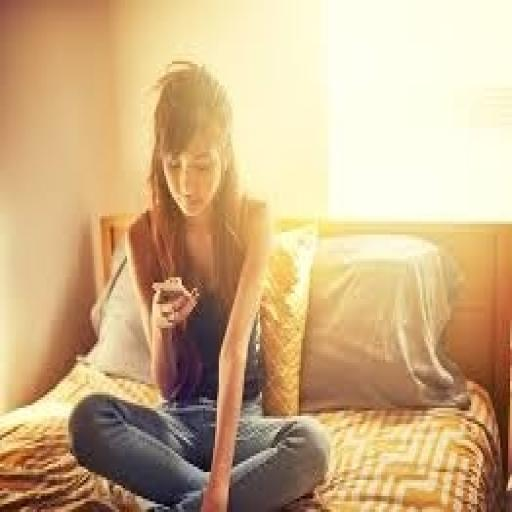texting: (65, 59, 332, 509)
